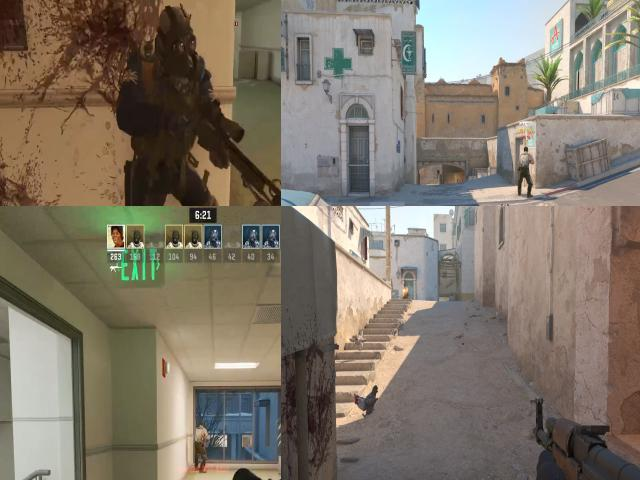CT: (126, 0, 216, 180), (437, 168, 440, 179)
CT-Head: (147, 0, 199, 72), (439, 169, 439, 170)
T: (517, 146, 534, 198), (191, 422, 210, 446), (403, 284, 408, 299)
T-Head: (197, 422, 206, 434), (524, 146, 528, 154), (404, 284, 406, 289)
